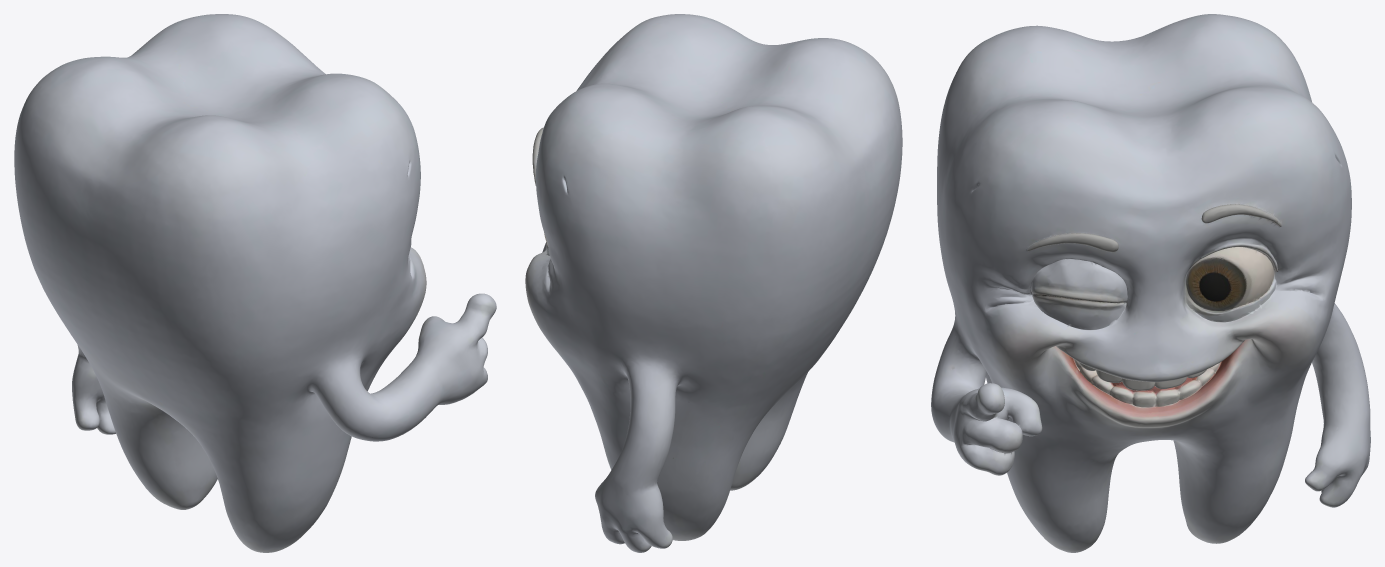
The model's file is glbData_1780601435071_4j585.glb.
The picture shows the model from 3 angles, left to right: view 1: azimuth 30°, elevation 25°; view 2: azimuth 150°, elevation 25°; view 3: azimuth 270°, elevation 25°; orthographic projection. The views are drawn at different scales.
Parts seen in each view (by area): view 1: tripo_node_a3b4923f-e3fb-4546-8e41-4cadc64acc87; view 2: tripo_node_a3b4923f-e3fb-4546-8e41-4cadc64acc87; view 3: tripo_node_a3b4923f-e3fb-4546-8e41-4cadc64acc87.
Boxes of the visible parts, x1,y1,x2,y2 form: tripo_node_a3b4923f-e3fb-4546-8e41-4cadc64acc87: [14, 14, 496, 552]; tripo_node_a3b4923f-e3fb-4546-8e41-4cadc64acc87: [525, 14, 902, 552]; tripo_node_a3b4923f-e3fb-4546-8e41-4cadc64acc87: [931, 14, 1370, 552].
Size of the model in its own units: 0.0824 by 0.1 by 0.0833.
1 material, 1 textured.
